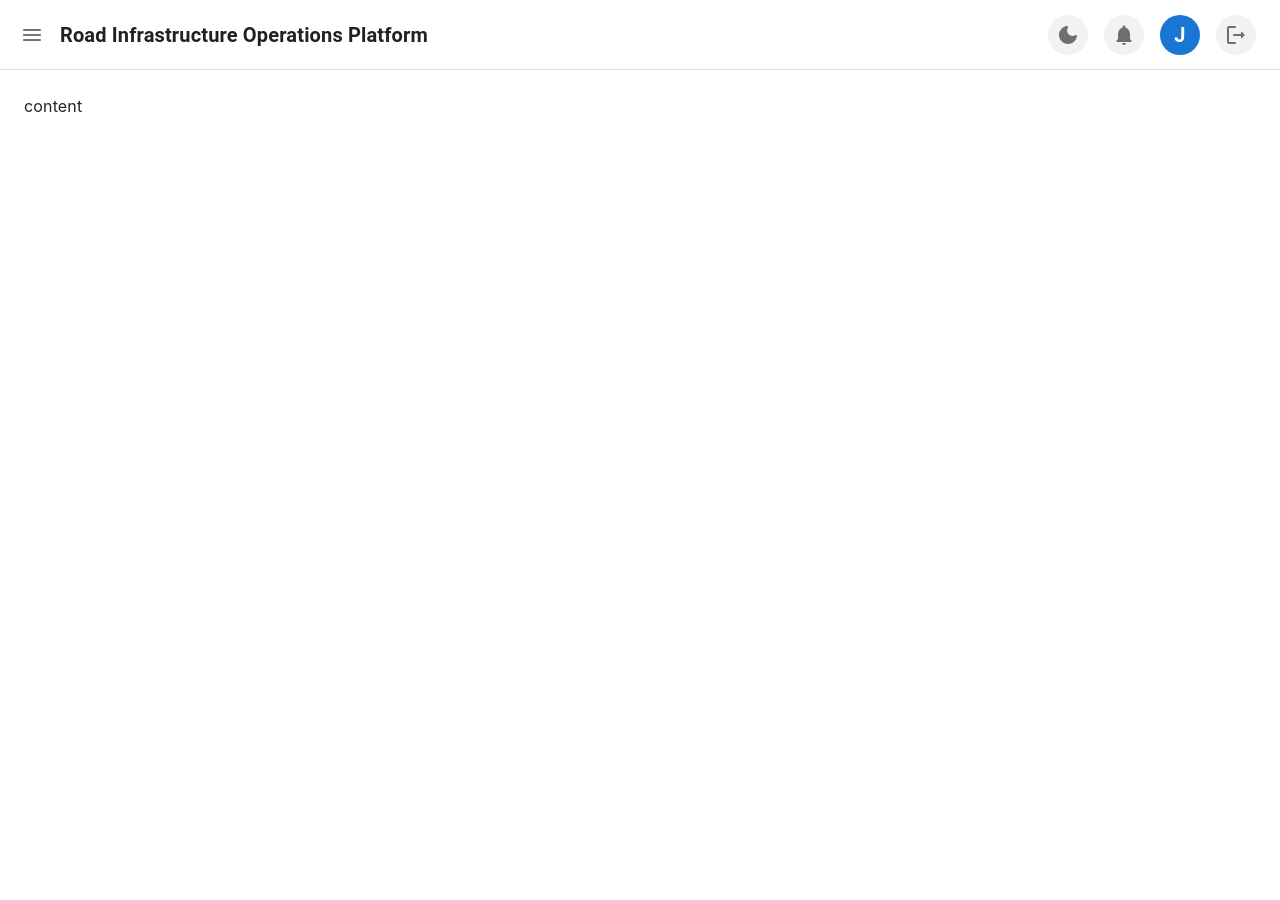
Test: AdminShell › closes the mobile drawer when a nav link is clicked
What coordinates should you click on to do the following:
click the button named "open menu"
I would click on:
 (32, 34)
Its box is [12, 14, 52, 54].
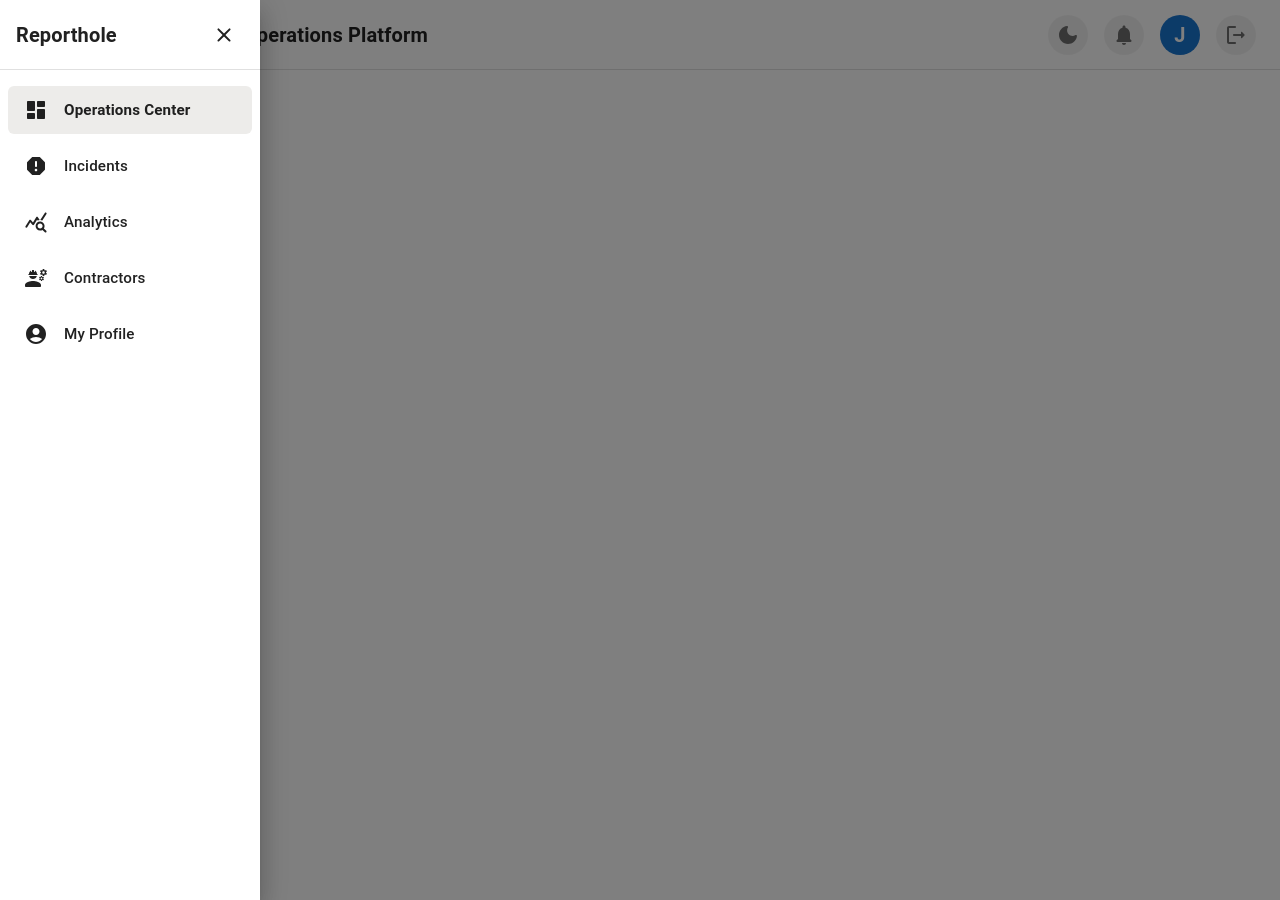
Check: the text "Operations Center" is shown, box [64, 99, 190, 121]
What coordinates should you click on to do the following:
click the link "Operations Center"
I would click on:
 (130, 110)
Its box is [8, 86, 252, 134].
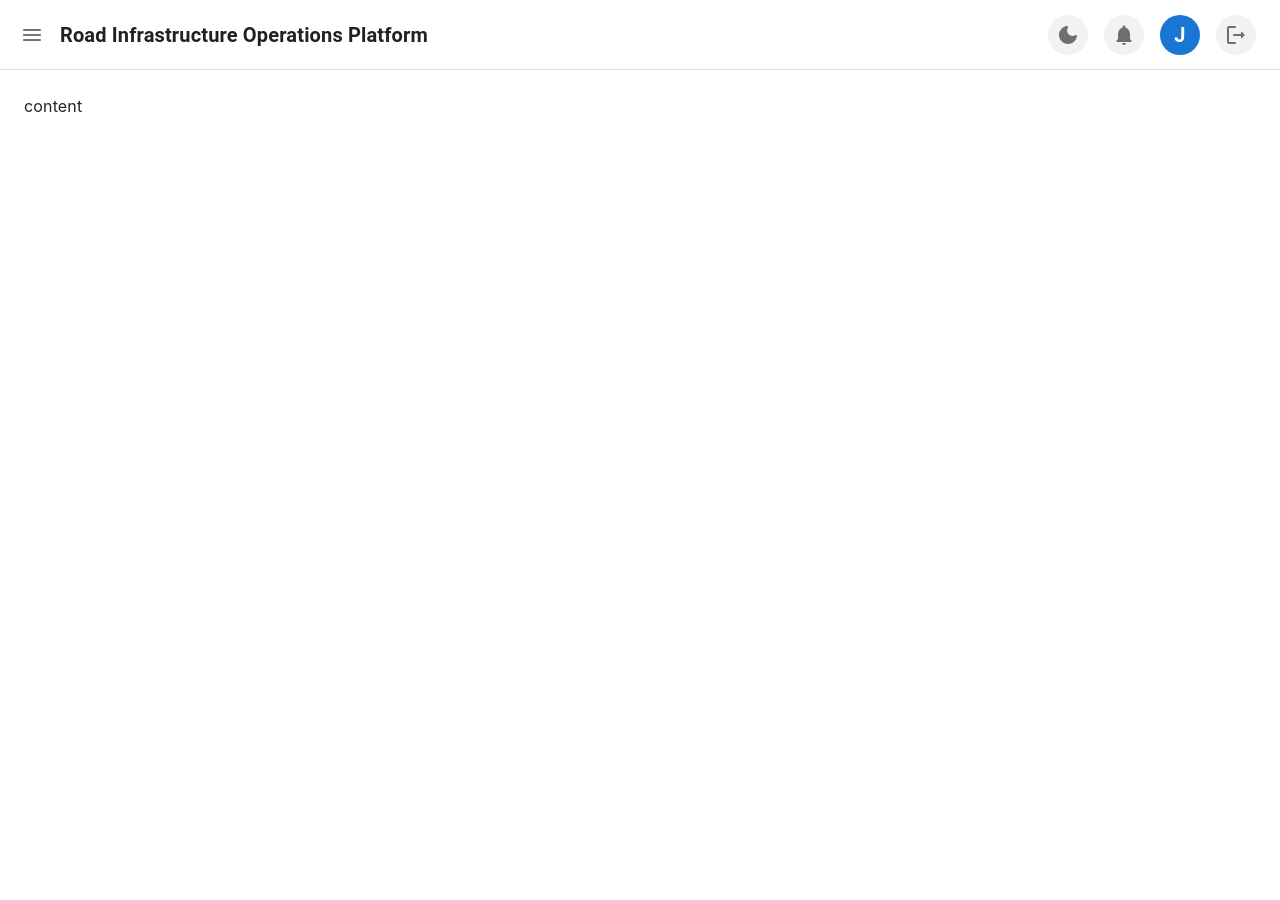
Check: the link "Operations Center" is gone
